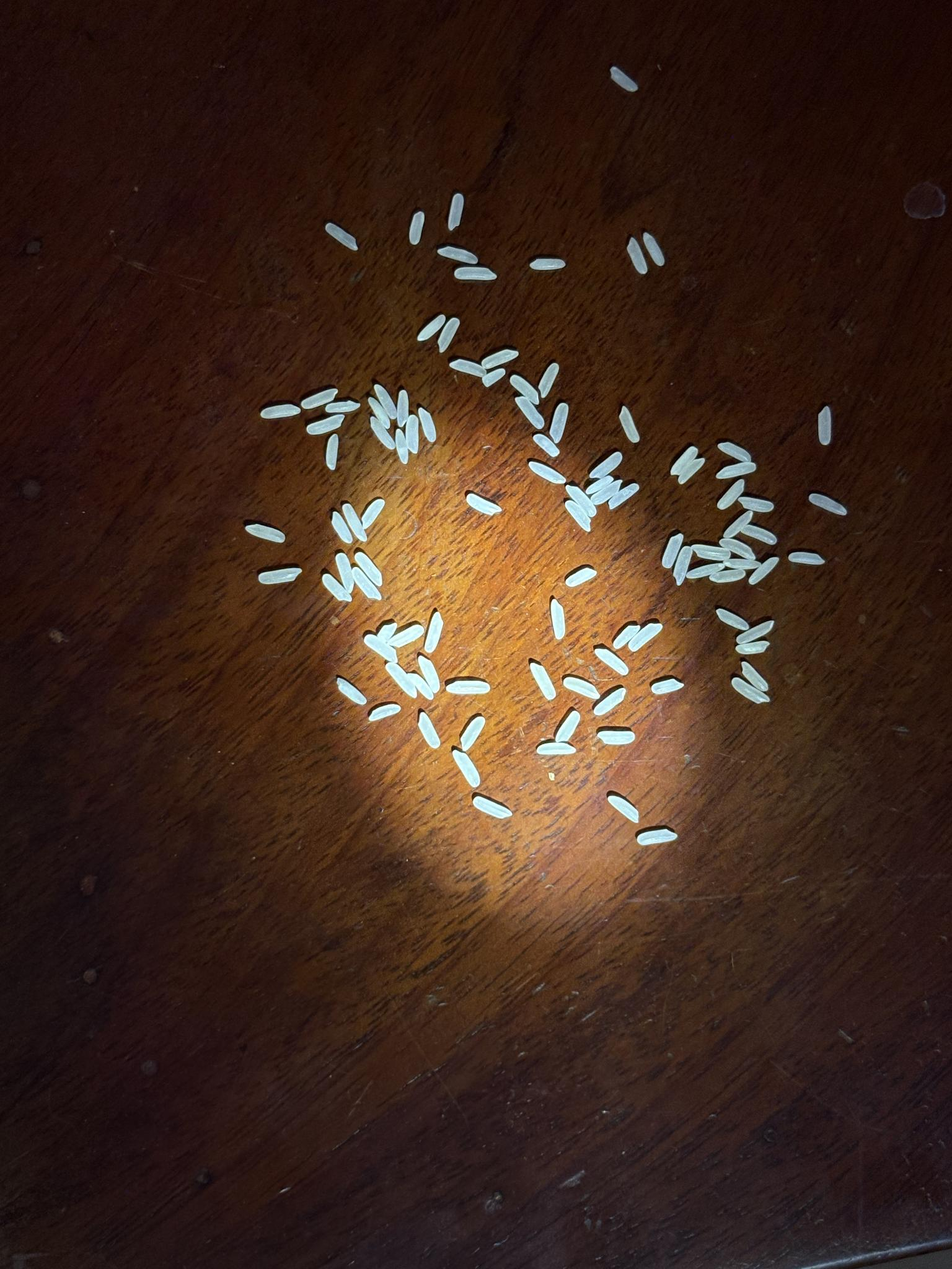Rice-th-y-nh: (386, 662, 417, 698), (452, 750, 481, 787), (628, 623, 663, 651), (342, 503, 367, 542), (530, 663, 556, 700), (732, 678, 769, 704), (364, 634, 398, 662), (355, 552, 383, 586), (566, 486, 597, 516), (516, 397, 544, 429), (353, 568, 381, 600), (594, 648, 628, 674), (510, 375, 540, 404), (718, 479, 746, 510), (594, 689, 627, 715), (672, 546, 694, 585), (322, 574, 352, 602), (374, 384, 398, 419), (670, 446, 698, 476), (749, 557, 780, 584), (608, 796, 639, 823), (473, 797, 511, 819), (590, 452, 622, 478), (326, 224, 358, 250), (418, 712, 441, 748), (563, 677, 599, 700), (418, 656, 441, 692), (461, 717, 485, 751), (737, 621, 774, 643), (388, 625, 423, 648), (555, 711, 580, 743), (809, 494, 847, 515), (720, 538, 756, 560), (417, 315, 446, 342), (741, 662, 768, 691), (724, 511, 753, 538), (337, 679, 367, 705), (425, 612, 444, 653), (370, 418, 395, 449), (609, 484, 639, 509), (566, 501, 591, 531), (438, 318, 460, 352), (591, 481, 622, 505), (246, 524, 285, 543), (407, 673, 434, 700), (678, 458, 706, 484), (307, 415, 345, 434), (550, 404, 569, 442), (619, 407, 639, 443), (627, 238, 647, 274), (438, 246, 478, 264), (662, 534, 683, 568), (610, 67, 638, 92), (467, 494, 500, 515), (643, 232, 664, 265), (259, 568, 302, 584), (302, 389, 338, 408), (368, 397, 390, 428), (539, 363, 559, 397), (530, 463, 564, 483), (716, 609, 748, 630), (331, 512, 352, 544), (362, 499, 385, 528), (336, 554, 354, 591), (742, 525, 777, 544), (613, 625, 640, 649), (717, 462, 755, 479), (719, 442, 751, 462), (637, 829, 676, 845), (482, 350, 518, 367), (447, 194, 464, 230), (447, 680, 490, 694), (550, 599, 565, 639), (418, 408, 436, 441), (693, 545, 732, 560), (537, 741, 576, 756), (566, 568, 596, 587), (451, 360, 486, 376), (534, 434, 559, 456), (455, 267, 497, 280), (405, 415, 419, 453), (409, 211, 425, 244), (739, 497, 774, 512), (598, 730, 635, 744), (818, 407, 832, 444), (261, 405, 300, 418), (710, 569, 746, 583), (369, 705, 400, 721), (395, 391, 409, 426), (687, 564, 721, 578), (652, 679, 683, 693), (586, 478, 613, 494), (789, 552, 825, 564), (395, 430, 408, 463), (725, 558, 759, 570), (326, 435, 338, 469), (325, 401, 359, 413), (736, 642, 769, 654), (530, 259, 565, 270), (377, 623, 397, 642), (483, 369, 505, 386)
